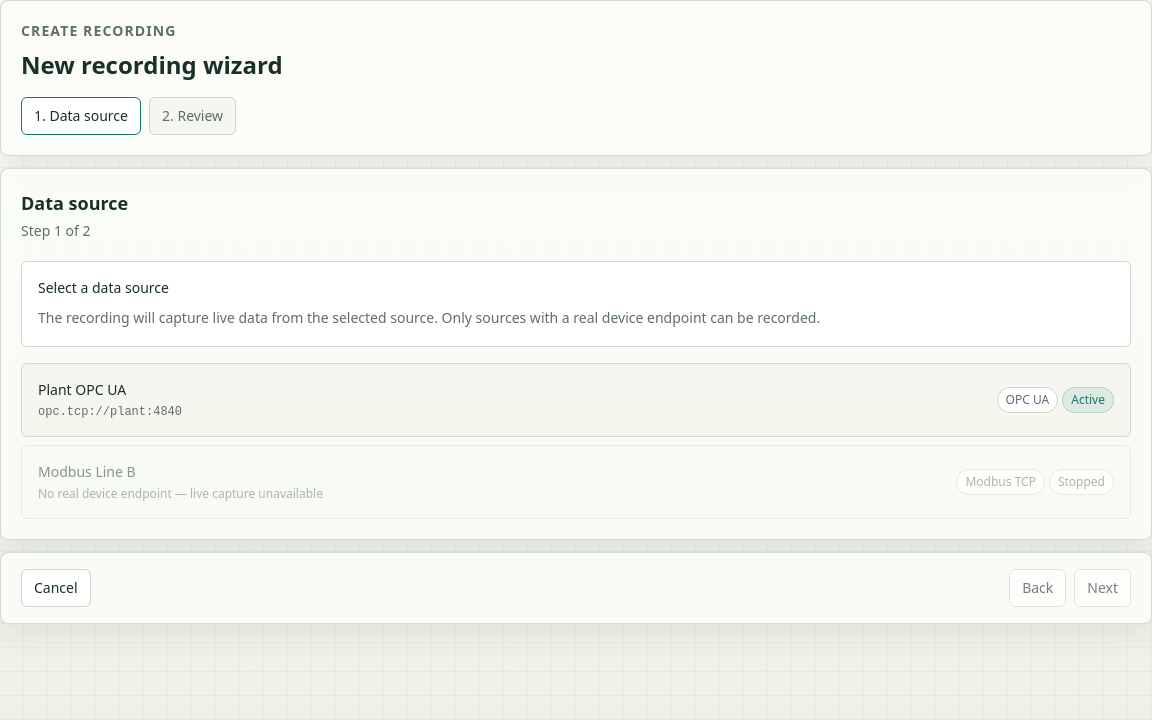
Test: CreateRecordingWizardPage — step 1 (Data source) › Next enabled after selecting a source with realDeviceEndpoint
Click the text "Plant OPC UA" at (82, 390), box x1=38 y1=380 x2=126 y2=399
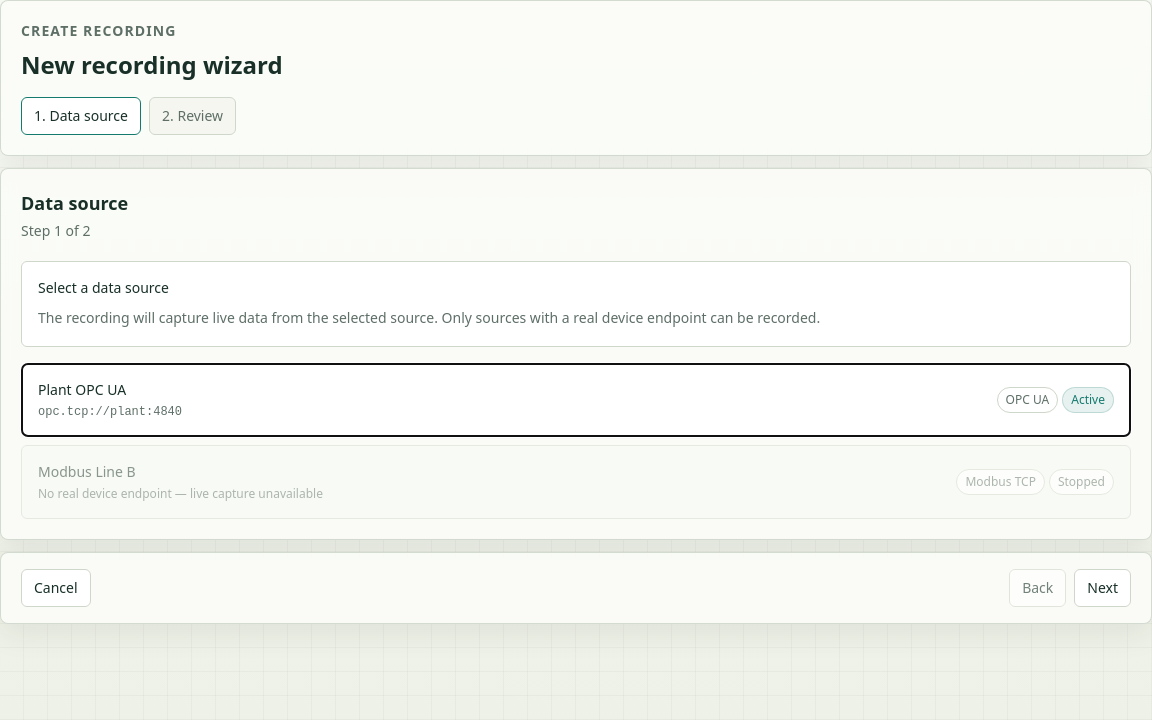
Check: the button "Next" is enabled, box x1=1074 y1=569 x2=1131 y2=607
